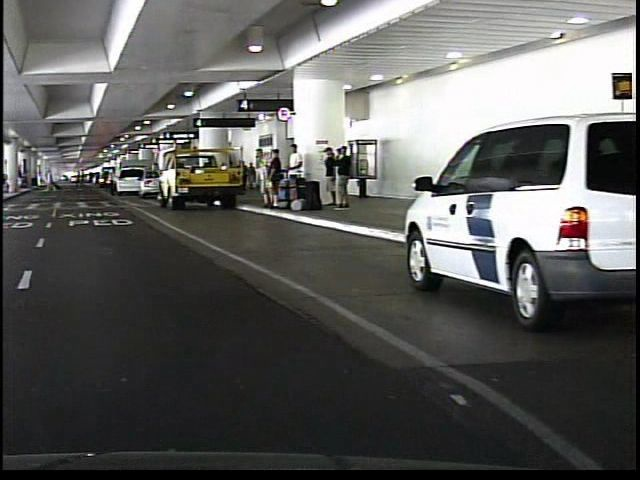person: (248, 144, 267, 206), (331, 144, 348, 210), (39, 161, 56, 195), (101, 166, 113, 199)
